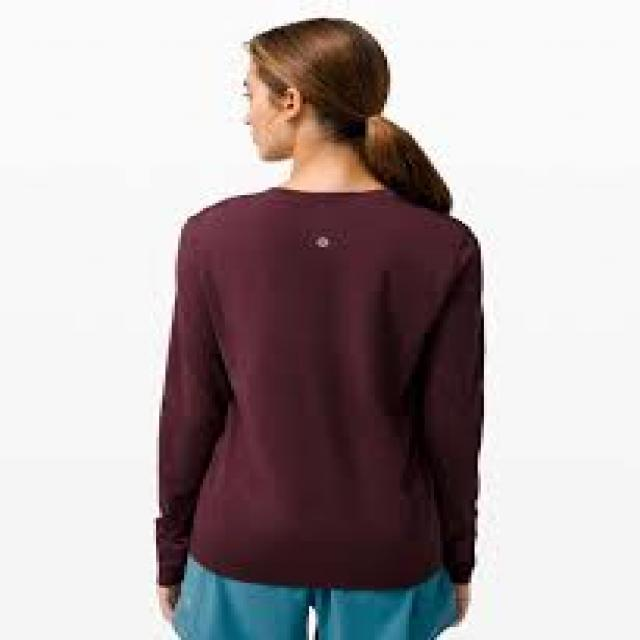plain: (148, 172, 492, 582)
